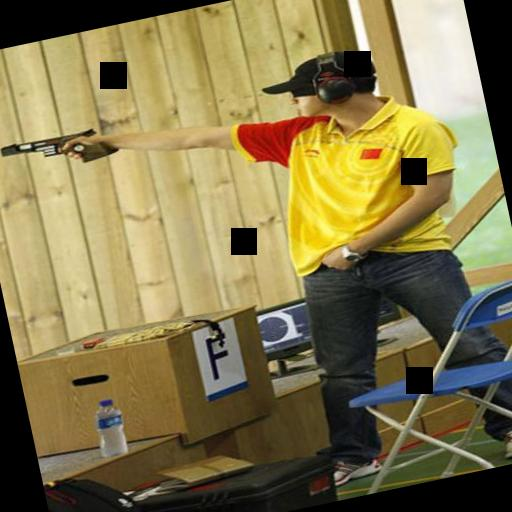Handgun: (0, 120, 117, 177)
